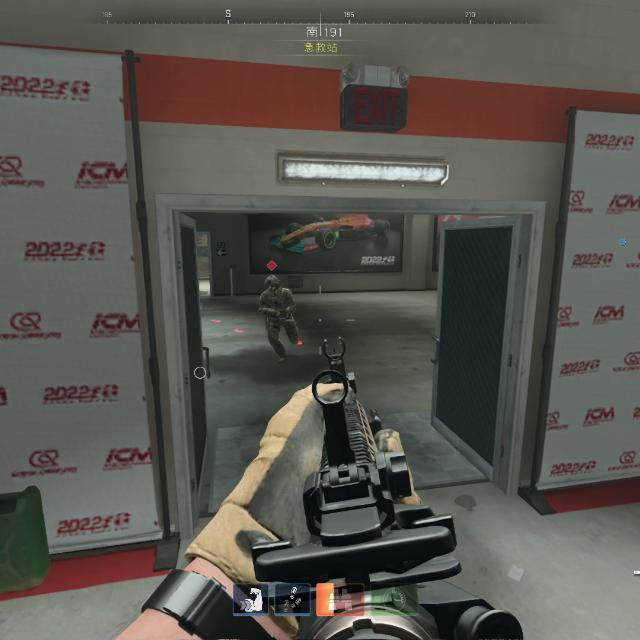MW2_body: (255, 259, 301, 362)
